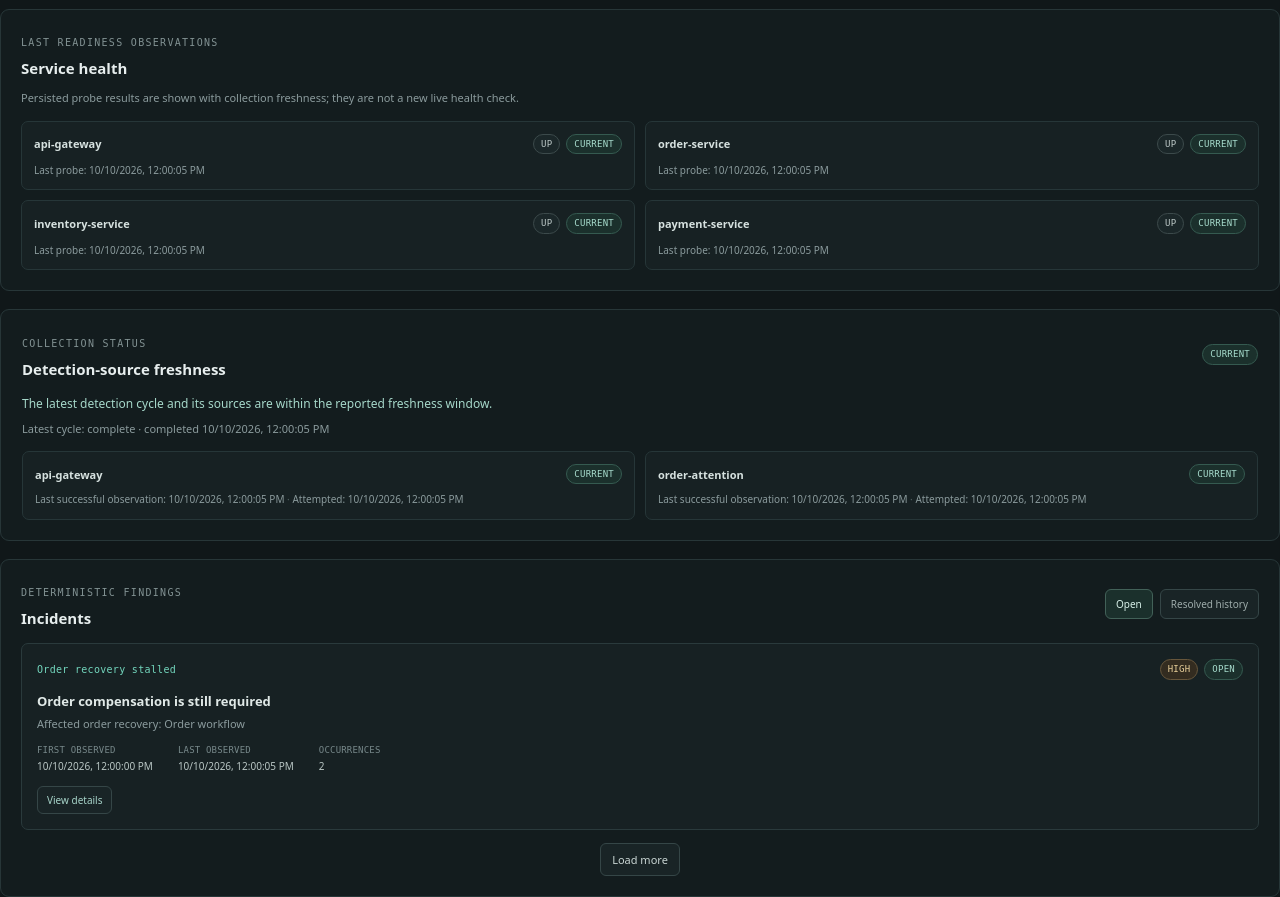
incident dashboard › passes the opaque next cursor unchanged and appends the next page
(page scrolled)
Expected: the heading "Order compensation is still required" is shown, [37,692,271,710]
Click the button "Load more".
click(640, 860)  # box [600,843,680,876]
(page scrolled)
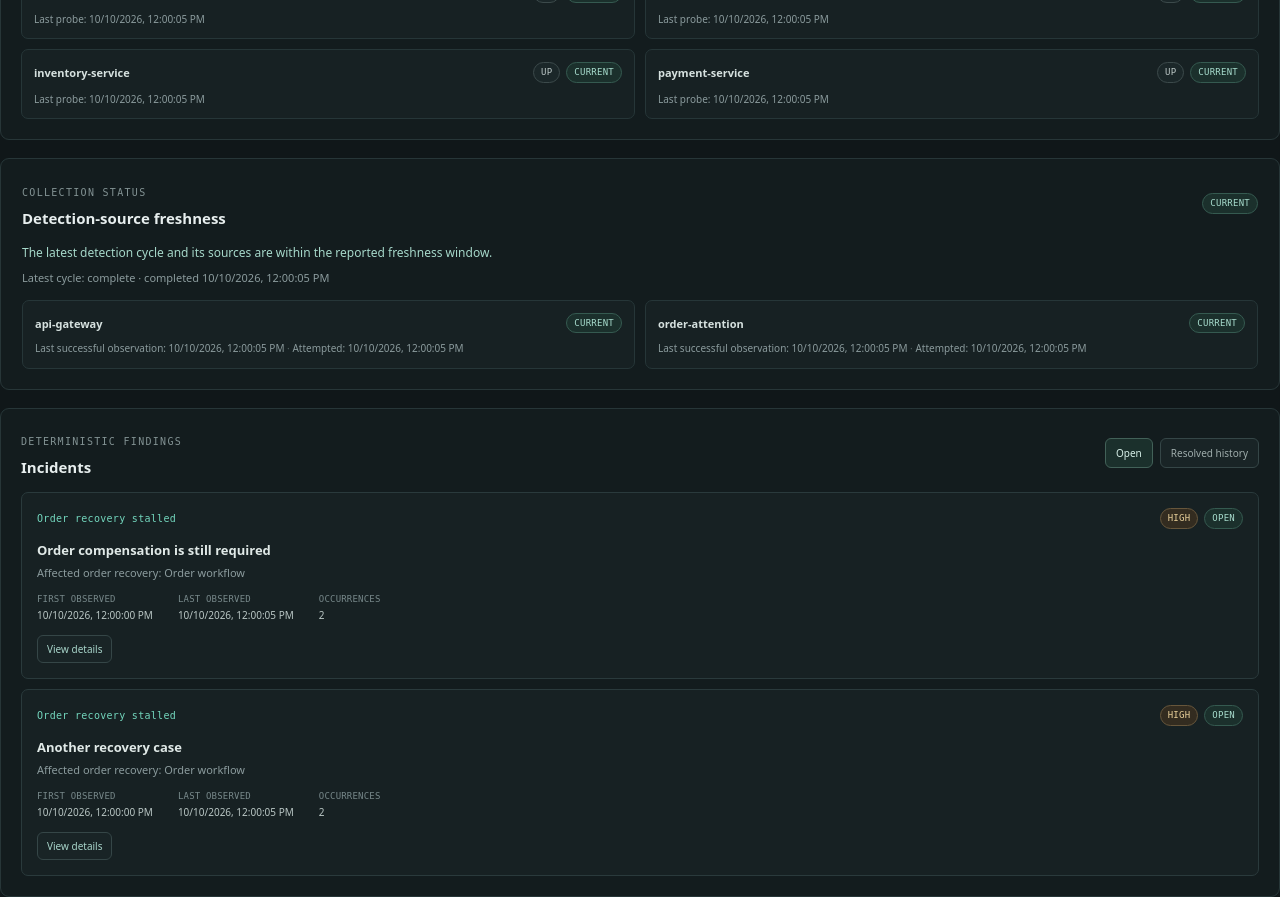
Expected: the heading "Another recovery case" is shown, [37,738,182,756]
